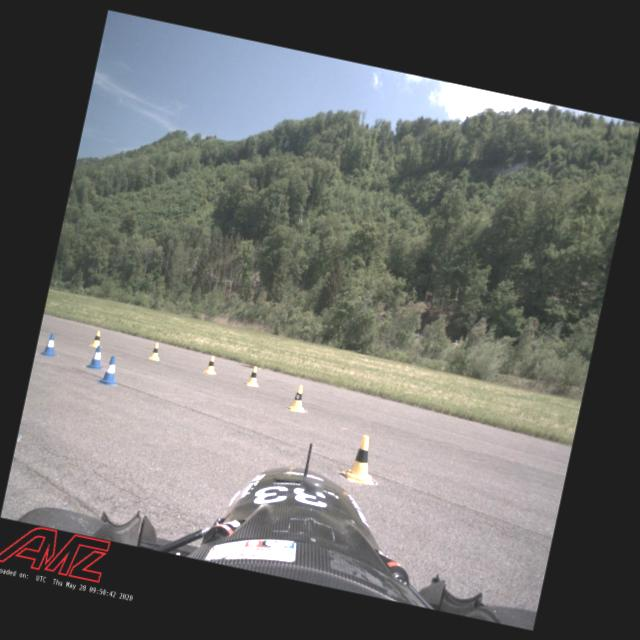blue_cone: (98, 354, 121, 387), (84, 344, 106, 371), (40, 332, 60, 358)
yellow_cone: (340, 432, 382, 486), (286, 383, 310, 413), (244, 364, 262, 388), (203, 354, 219, 376), (88, 329, 104, 349), (148, 342, 162, 362)
